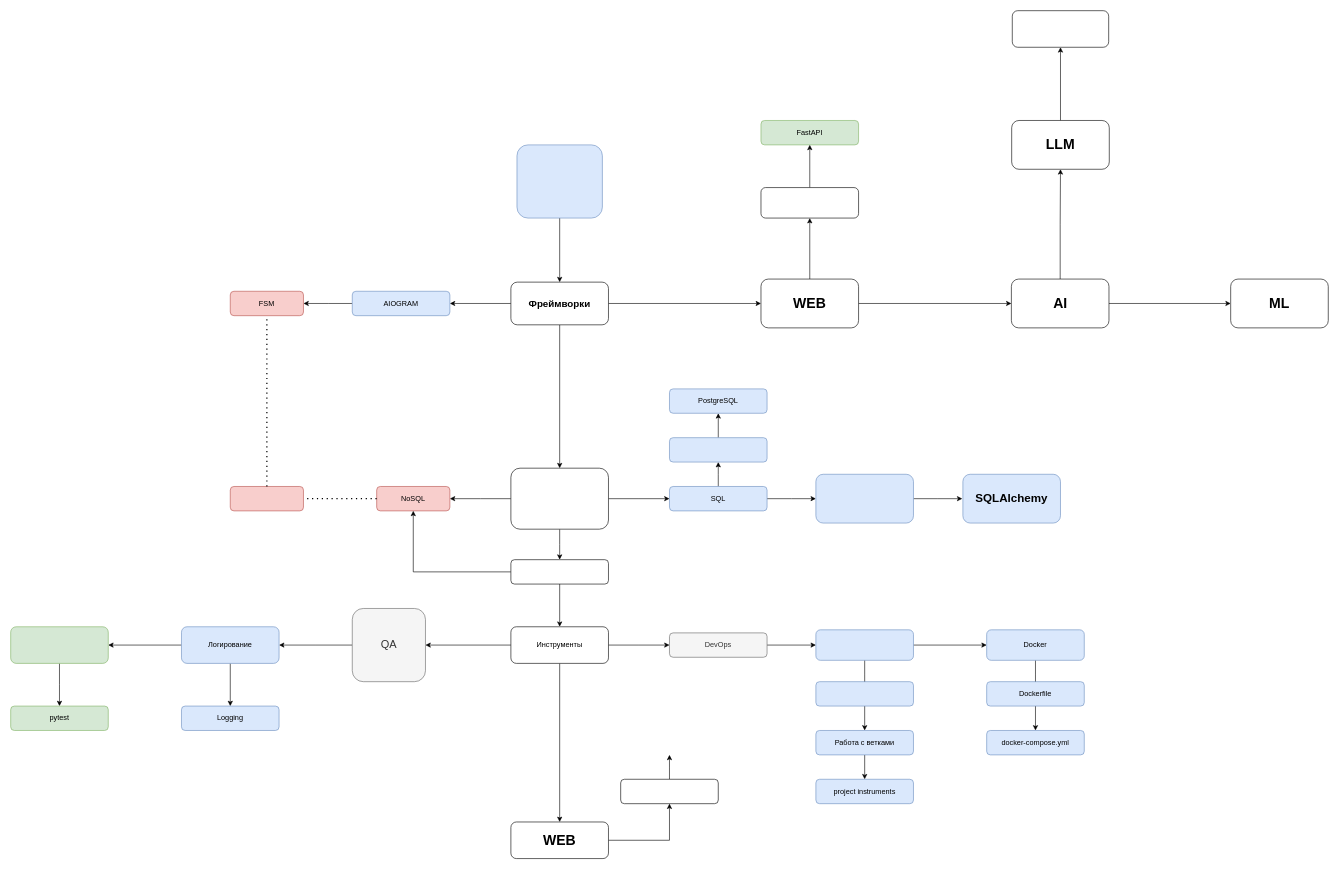
The diagram is 1339 pixels wide and 869 high, and some of its shapes have lost their labels. Here are the shapes that lost their labels. From the top down, the centre of each, then its label:
(1060,28): Langchain
(559,181): Python
(809,202): REST API
(718,449): SQLite
(266,498): REDIS
(559,498): Базы данных
(864,498): ORM
(559,571): Кэширование
(59,644): Тестирование
(864,644): Git
(864,693): Работа с версиями
(669,791): Структура http-запросов
